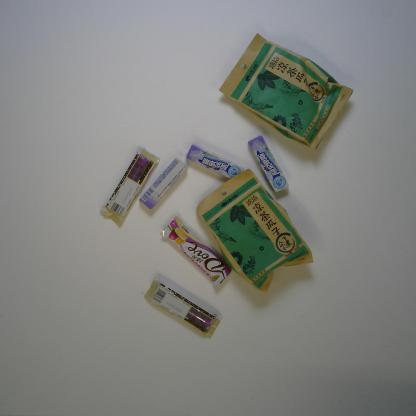Candy: (139, 156, 187, 210), (247, 134, 290, 193), (184, 144, 244, 179)
Chocolate: (159, 215, 232, 288), (143, 277, 222, 339), (100, 147, 160, 228)
Dried Food: (218, 32, 355, 150), (195, 167, 314, 294)
